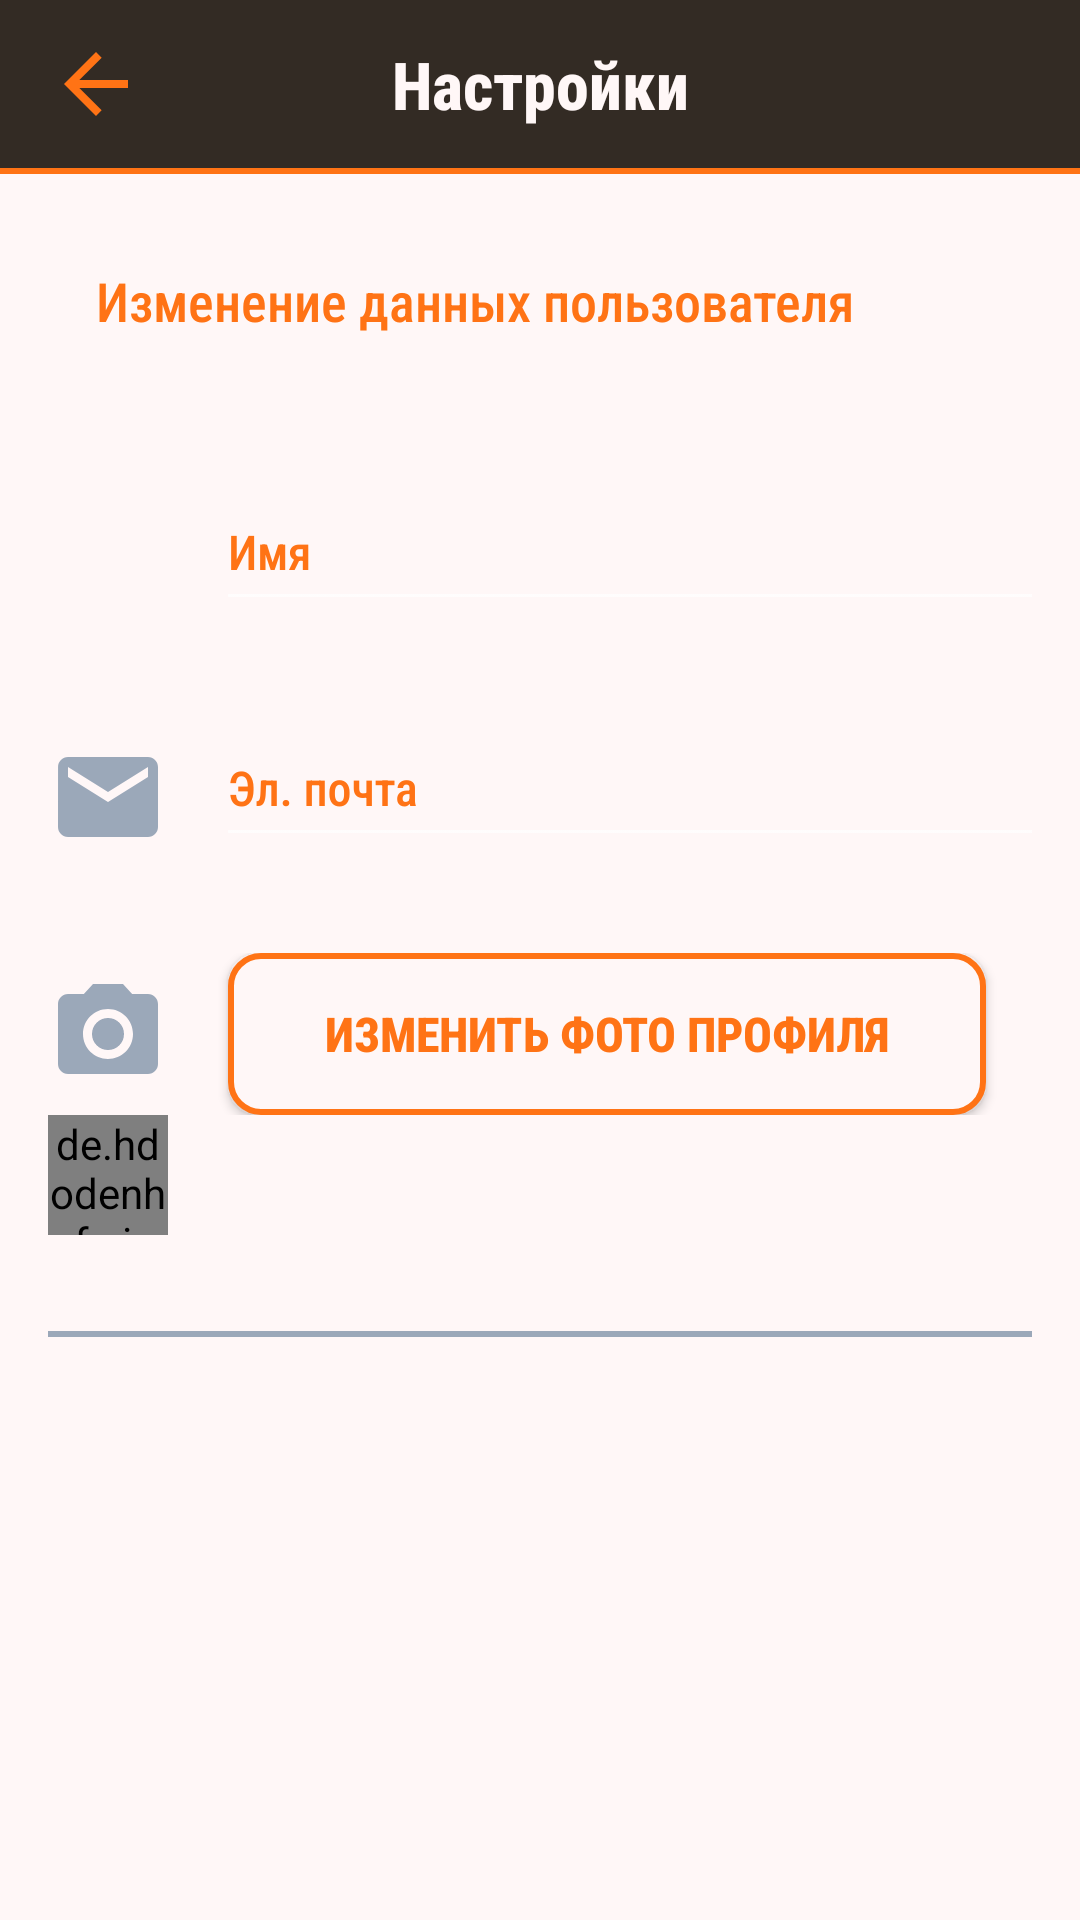

Screen size 1080x1920. Icon name, then its box in pixels as (x1, y1, x2, y2):
arrow back: (64, 52, 128, 116)
camera: (58, 984, 158, 1074)
email: (58, 757, 158, 837)
